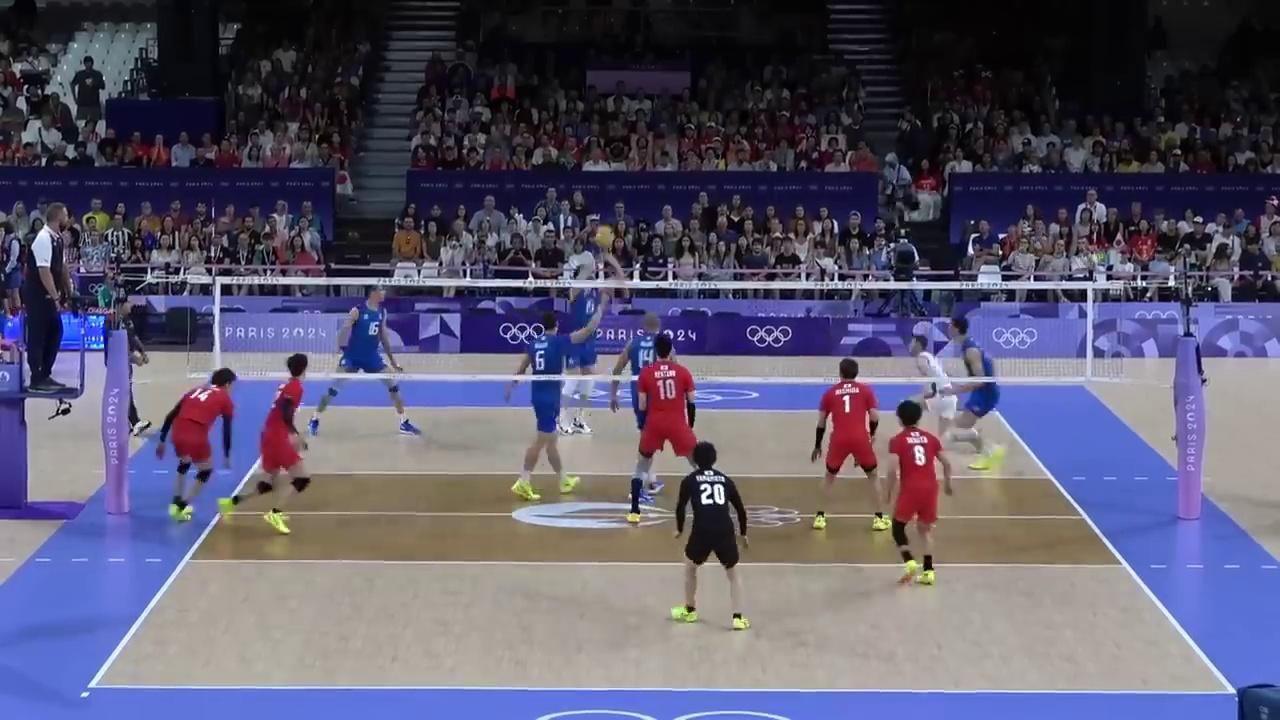ball: (597, 227, 615, 247)
